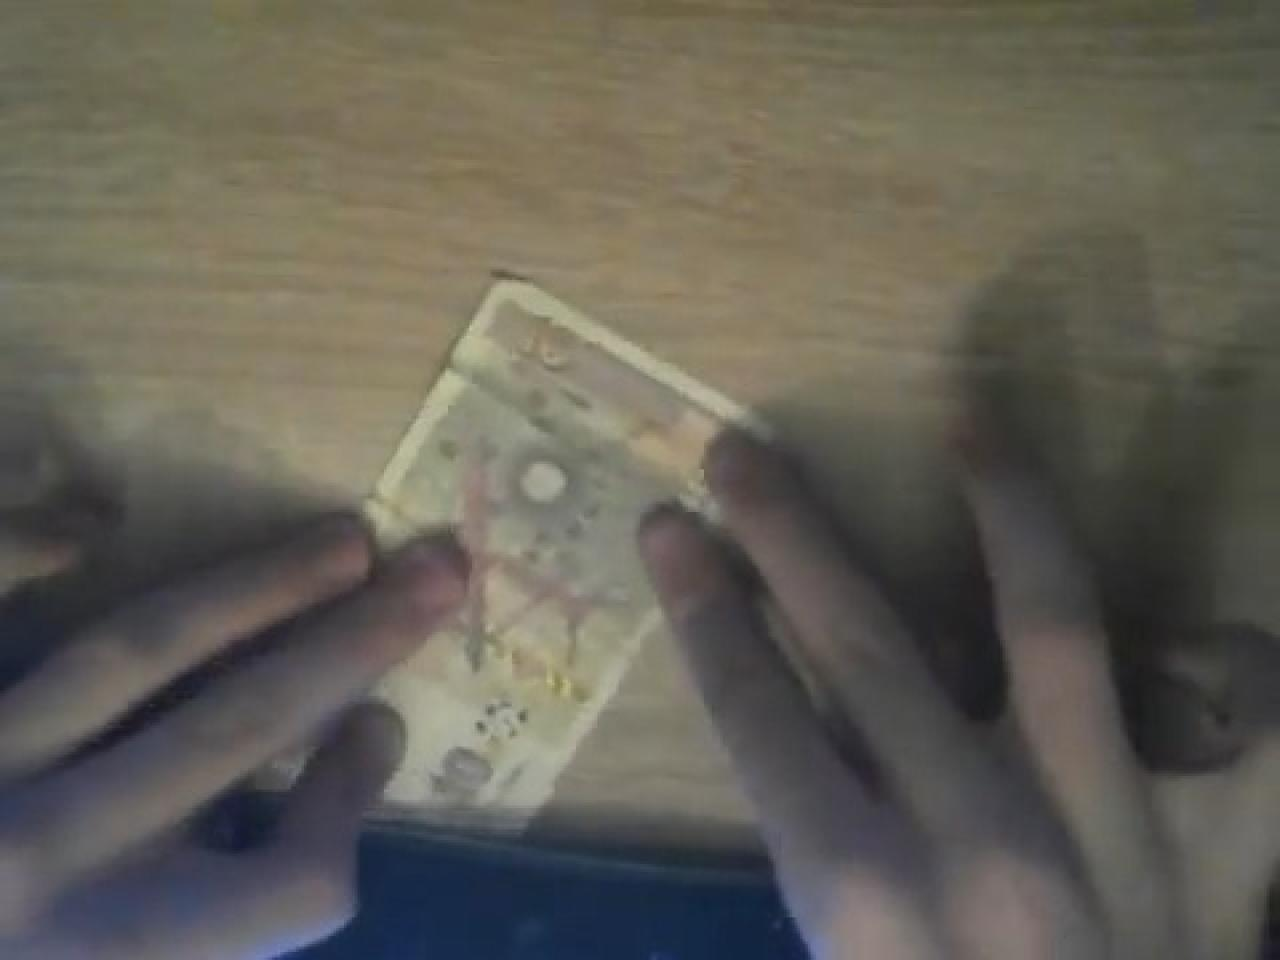10leva: (365, 272, 779, 829)
